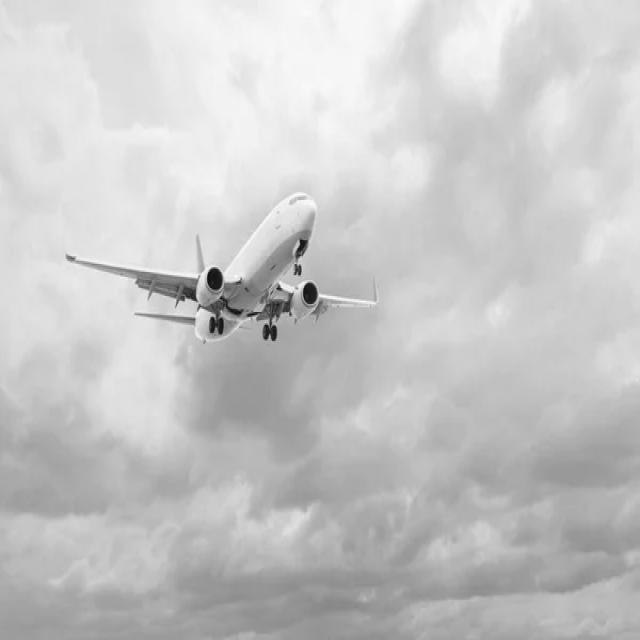Aircraft: (60, 185, 394, 356)
